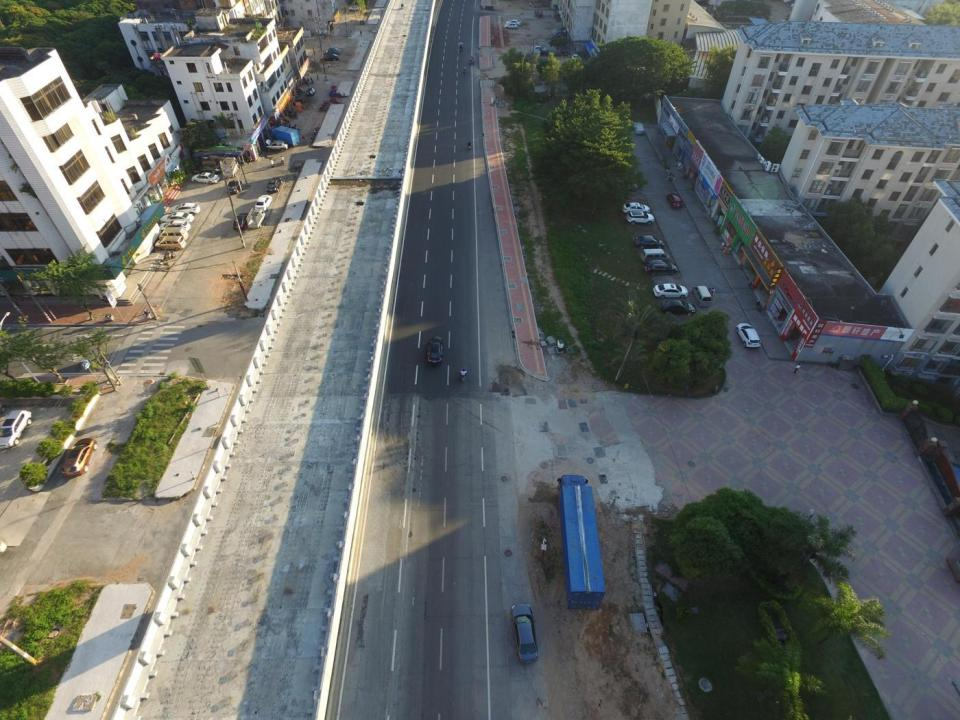car: (508, 602, 539, 666), (60, 437, 98, 478), (0, 409, 32, 449), (735, 322, 762, 349), (660, 299, 696, 317), (425, 336, 445, 366), (652, 283, 689, 299), (644, 259, 678, 276), (633, 233, 665, 250), (625, 210, 655, 225), (170, 202, 202, 216), (159, 219, 191, 232), (622, 202, 651, 216), (159, 212, 195, 223), (193, 163, 223, 176), (254, 194, 273, 213), (232, 211, 250, 231), (190, 172, 219, 184), (266, 177, 284, 193), (265, 139, 287, 152), (666, 192, 683, 208), (226, 179, 242, 194), (632, 120, 644, 136), (320, 53, 340, 62), (548, 30, 566, 40), (320, 47, 340, 55), (531, 44, 548, 52), (506, 18, 521, 26), (348, 4, 360, 12), (505, 24, 518, 30)
truck: (556, 474, 606, 610), (270, 125, 301, 147)
van: (154, 236, 186, 252), (690, 285, 712, 307), (640, 248, 670, 264), (158, 227, 188, 240)
